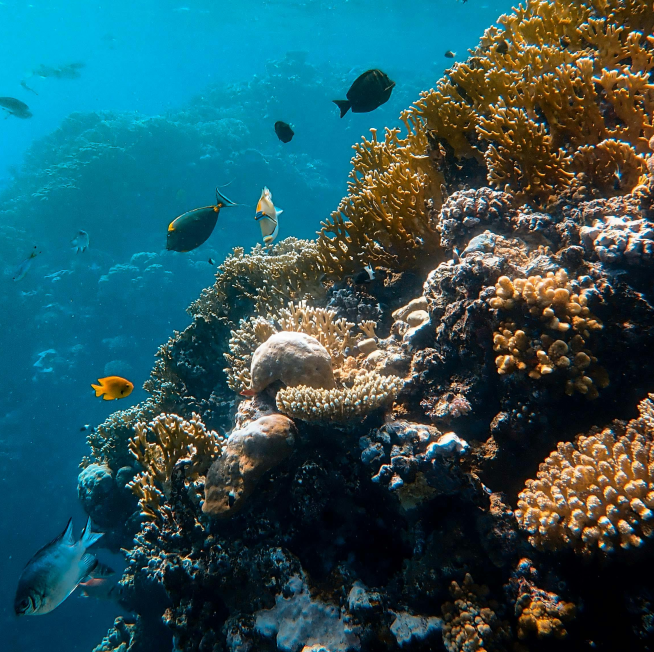fishRound: (12, 515, 105, 618), (163, 186, 240, 254), (90, 374, 134, 403), (273, 119, 295, 145), (72, 230, 91, 255)
fishSmall: (329, 69, 395, 119), (255, 182, 283, 251), (11, 245, 43, 285)
